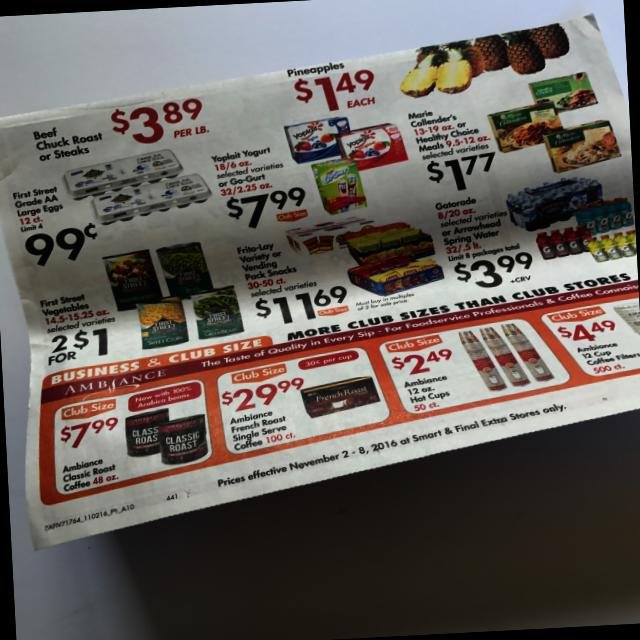Paper: (0, 9, 640, 551)
